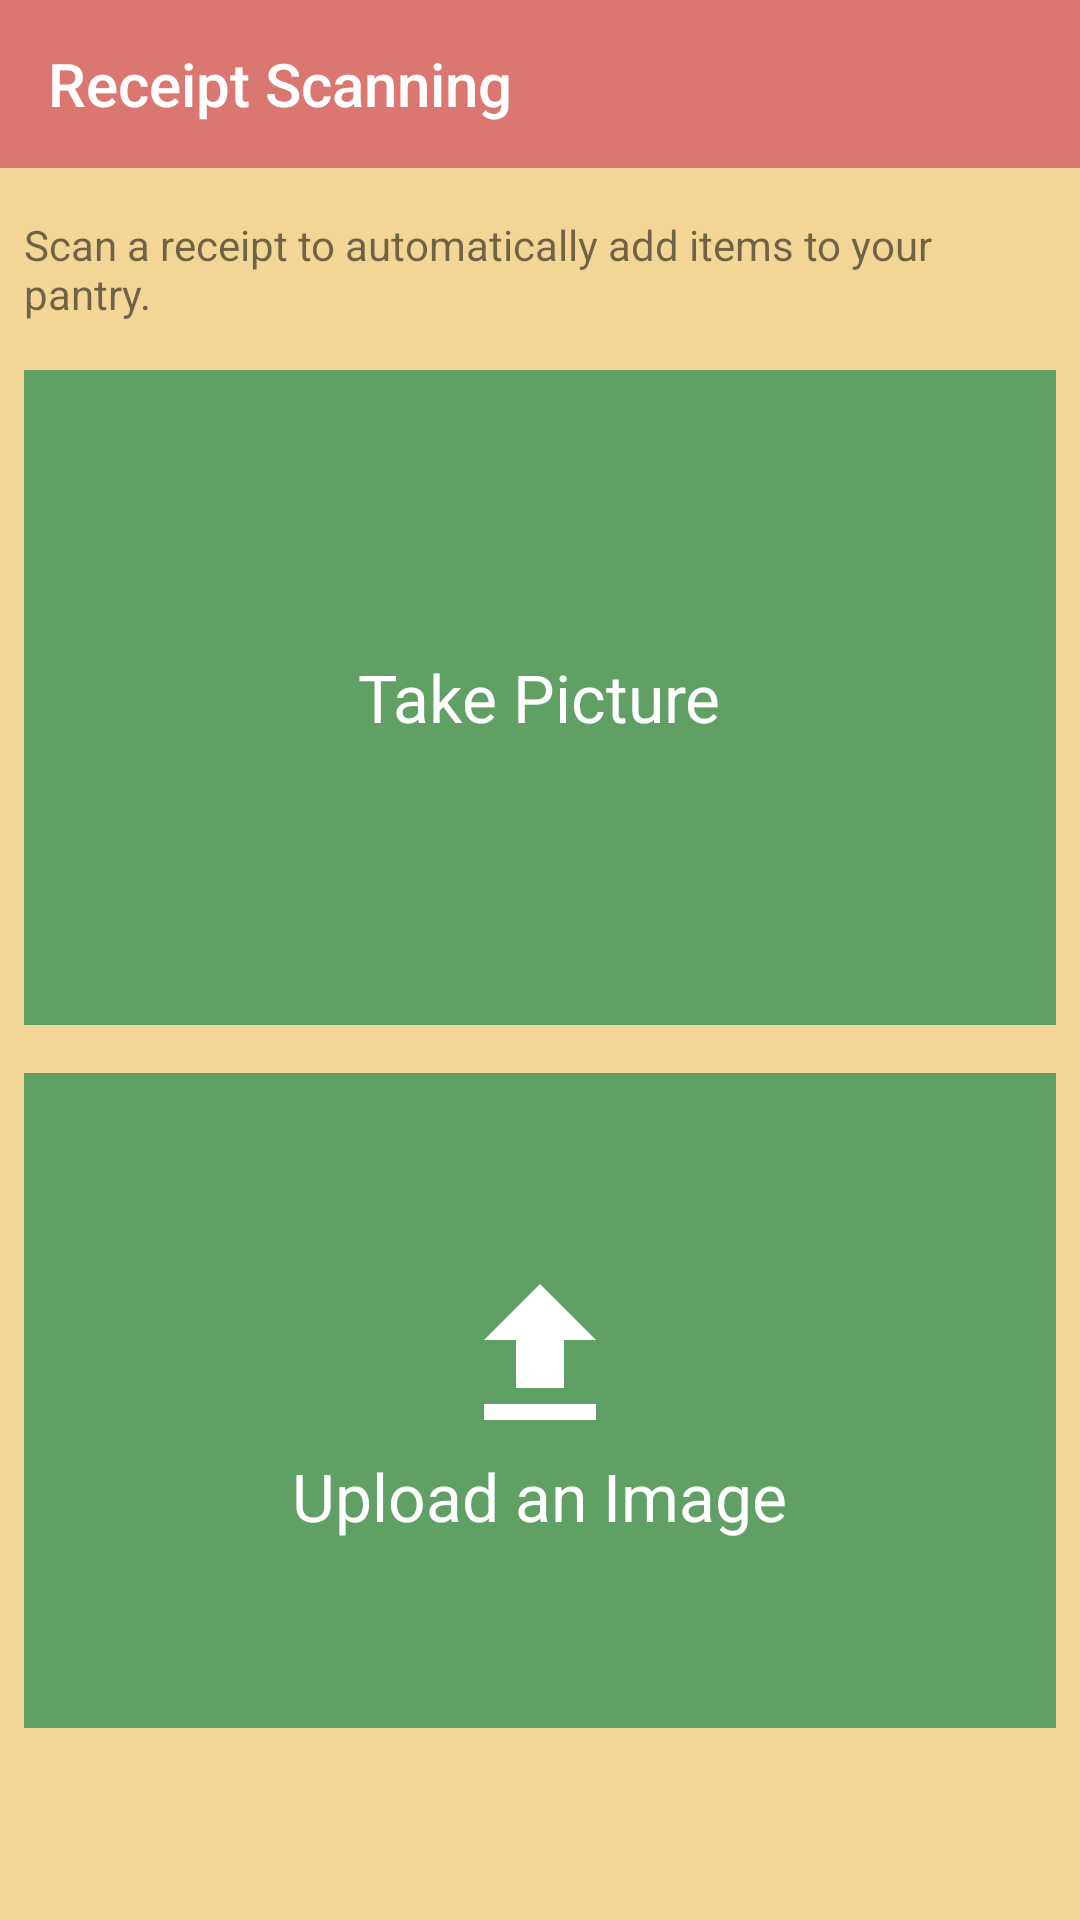

Locate icon controls on the screen. Image size 1080x1920, boxes as (x1, y1, x2, y2).
file upload: (484, 1284, 596, 1420)
